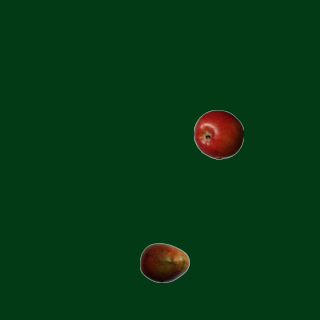Apple Braeburn: (193, 109, 243, 159)
Mango Red: (139, 237, 189, 287)
